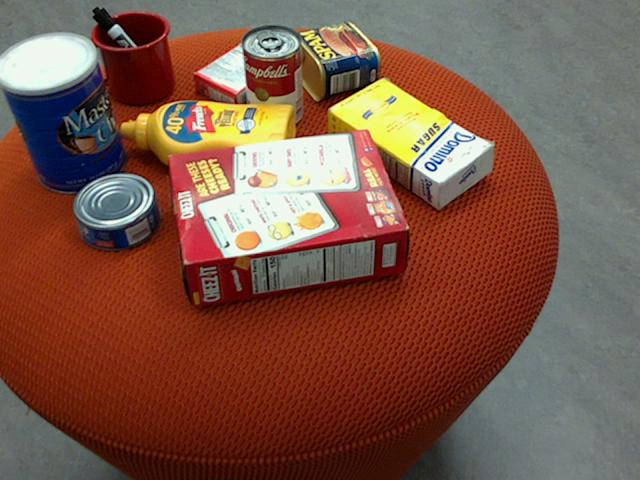cracker_box: (168, 128, 409, 306)
gelatin_box: (194, 42, 285, 110)
large_marker: (92, 6, 169, 92)
master_chef_can: (0, 32, 127, 193)
mug: (77, 11, 175, 104)
mustard_bottle: (121, 101, 296, 175)
potted_meat_can: (286, 22, 381, 102)
sugar_box: (328, 78, 496, 207)
tomato_soup_can: (242, 23, 303, 129)
tuna_fish_can: (73, 173, 161, 251)
